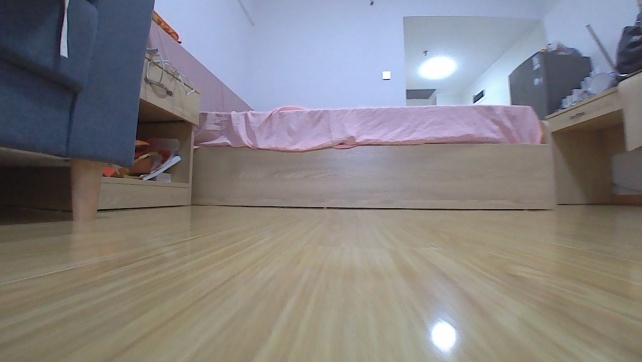bed: (147, 15, 561, 214)
cabinet: (90, 51, 202, 212)
sofe1: (0, 0, 162, 224)
